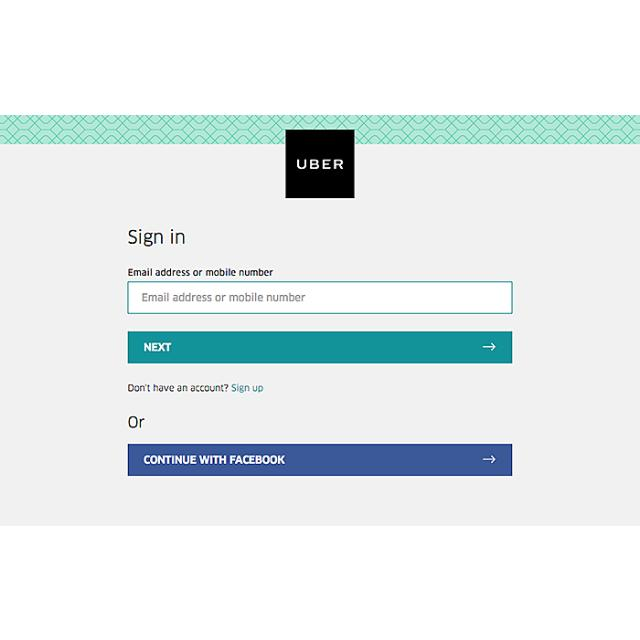QLabel: (143, 453, 287, 465), (125, 225, 187, 247), (126, 268, 274, 276), (125, 382, 228, 393), (142, 340, 172, 352), (230, 383, 264, 393), (128, 414, 144, 428)
VBtn: (128, 442, 514, 476), (128, 331, 514, 364)
VIcon: (480, 341, 498, 352), (482, 454, 496, 464)
VImg: (283, 126, 357, 200)
VTextField: (126, 280, 514, 314)
